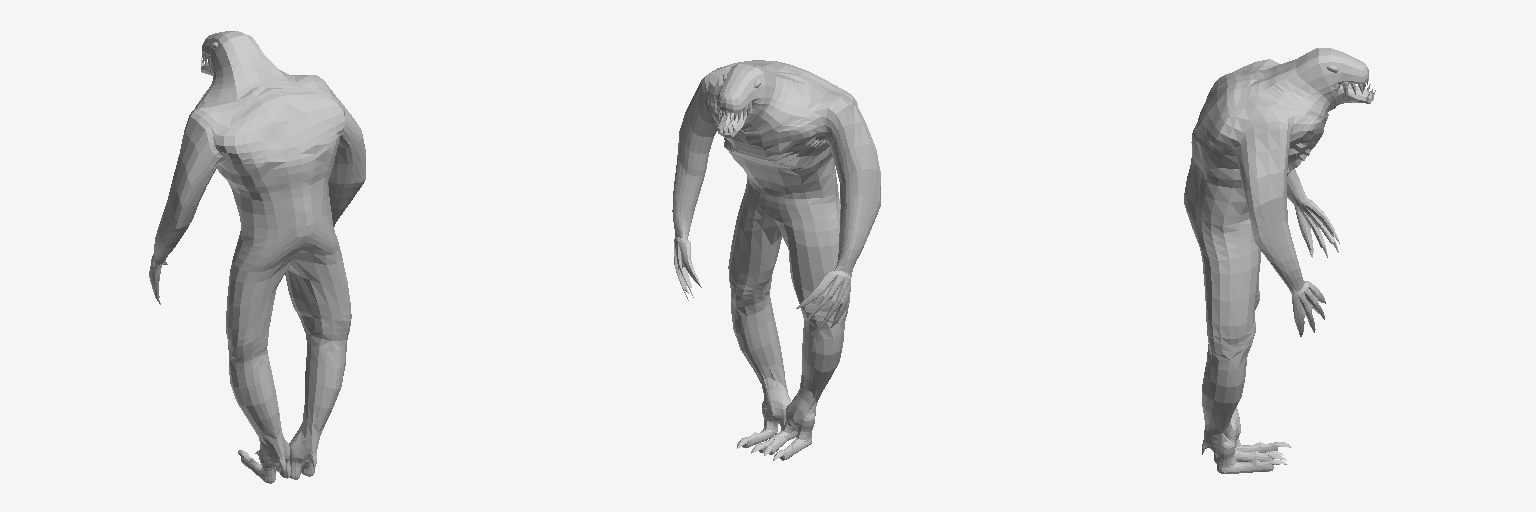
Rendered from Berserkerandar.0011.obj.
3 views of the same model, side by side, from view 1: azimuth 30°, elevation 25°; view 2: azimuth 150°, elevation 25°; view 3: azimuth 270°, elevation 25° (orthographic).
Parts seen in each view (by area): view 1: polySurface27; view 2: polySurface27; view 3: polySurface27.
Part boxes in pixels (x1,y1,x2,y2): polySurface27: (149,31,365,483); polySurface27: (672,60,880,460); polySurface27: (1184,48,1375,473).
Size of the model in its own units: 11.75 by 23.62 by 10.04.